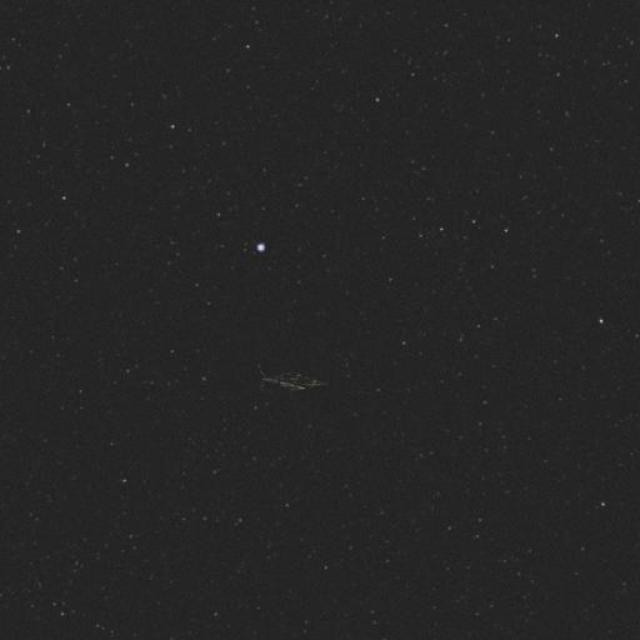smart_1: (162, 276, 404, 488)
